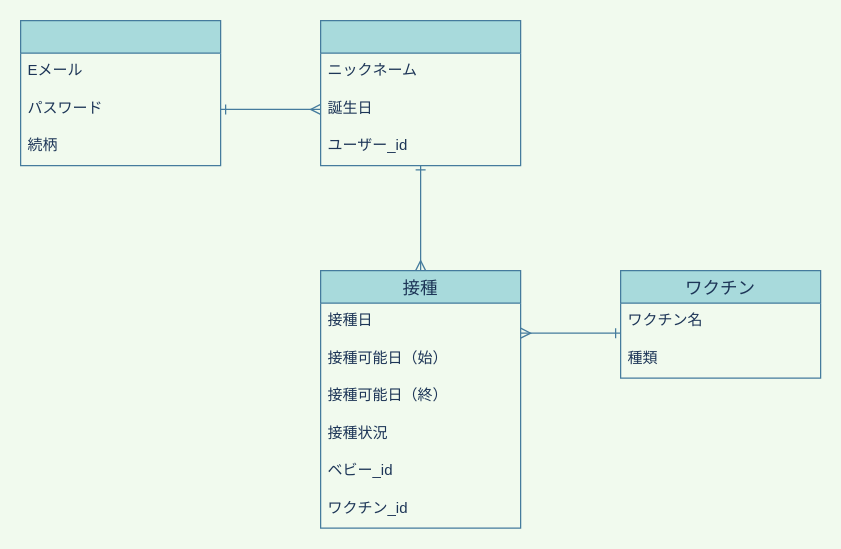
This 841x549 diagram has some shape labels left out. The shapes that lost their labels are listed below. From the top down, each one's box as (x1, y1, x2, y2) in pixels, then its label:
(19, 19, 221, 166): ユーザー
(319, 19, 521, 166): ベビー
